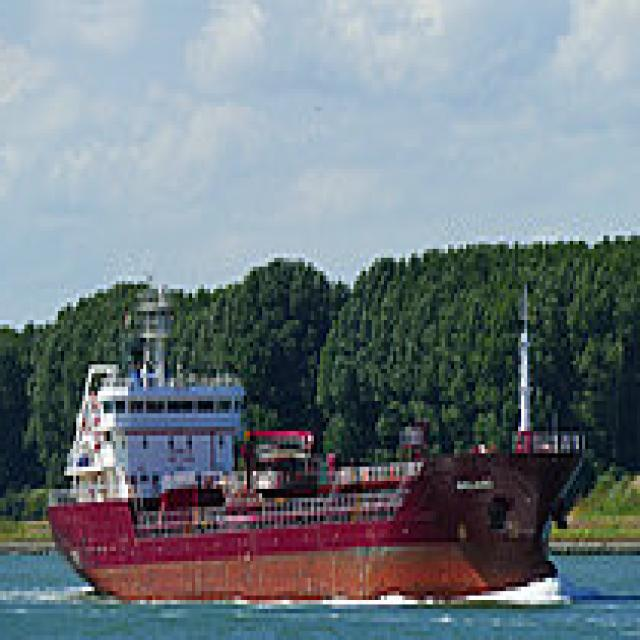Tanker: (46, 258, 591, 596)
